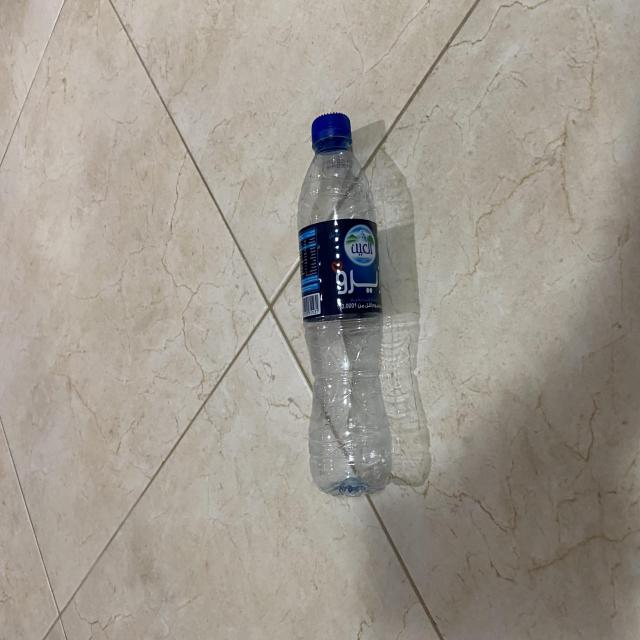bottle: (296, 102, 394, 493)
